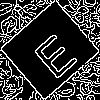E: (25, 24, 80, 81)
